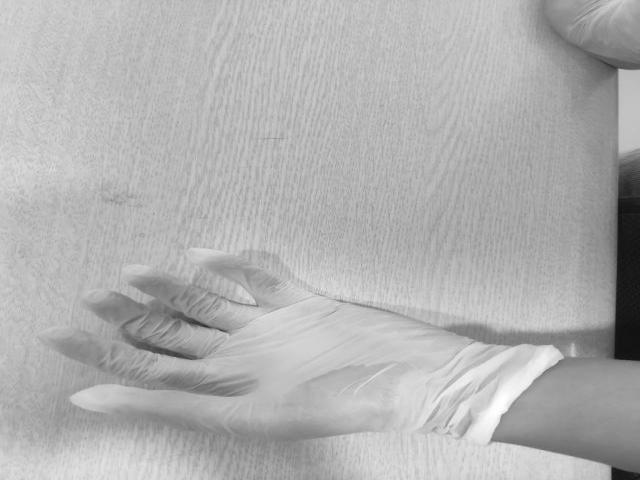gloved: (46, 246, 434, 440)
